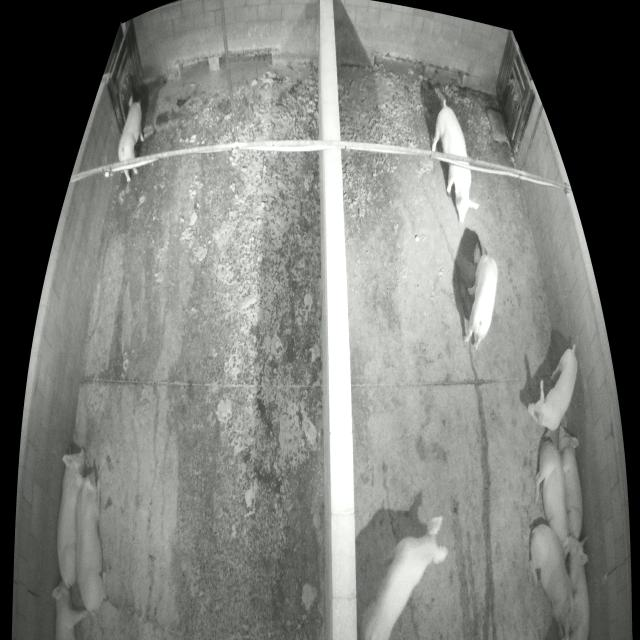pig: (360, 516, 448, 638), (432, 106, 480, 223), (529, 526, 577, 639), (75, 471, 106, 612), (528, 349, 578, 431), (56, 449, 85, 588), (463, 242, 498, 350), (535, 442, 568, 544), (563, 533, 591, 639), (558, 428, 584, 539), (118, 92, 145, 181), (51, 579, 87, 639)
